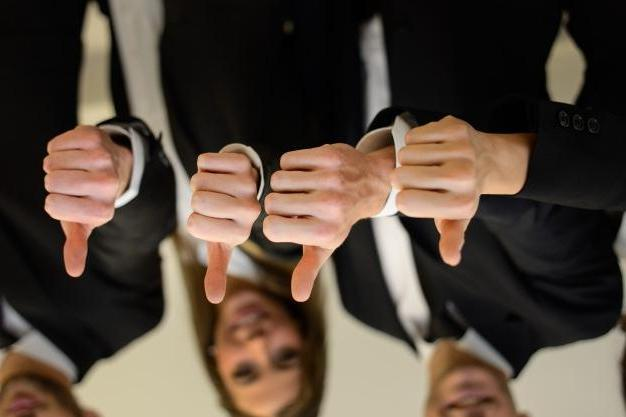thumbsdown: (262, 143, 347, 303), (391, 121, 481, 266), (43, 126, 121, 278), (187, 153, 261, 304)
